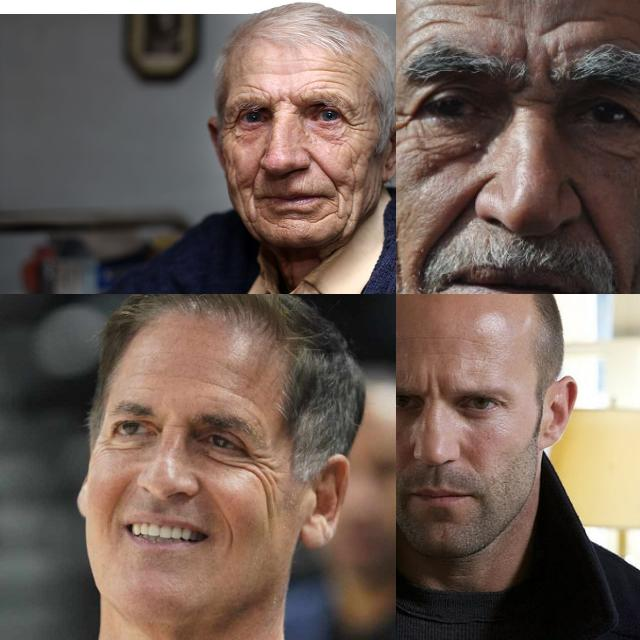chin: (308, 210, 332, 226), (259, 212, 279, 228), (281, 212, 305, 225)
crows_feet: (250, 450, 274, 488), (396, 98, 414, 140), (344, 109, 364, 139), (224, 114, 238, 140), (96, 436, 112, 454)
forehead: (536, 8, 598, 40), (411, 0, 465, 33), (206, 380, 256, 404), (310, 51, 356, 75), (408, 331, 464, 345), (304, 76, 346, 92), (451, 351, 487, 364), (235, 80, 267, 94)
frown_line: (422, 373, 446, 407), (516, 34, 534, 66), (272, 92, 296, 110)
gummy_smile: (418, 190, 472, 252), (570, 186, 616, 258), (104, 482, 126, 524), (312, 153, 338, 187), (220, 514, 238, 550), (244, 162, 262, 192)
masseter: (396, 233, 415, 294), (232, 178, 250, 218), (348, 152, 362, 202), (261, 497, 279, 533)
sad_smile: (332, 192, 346, 218), (250, 196, 262, 226)
